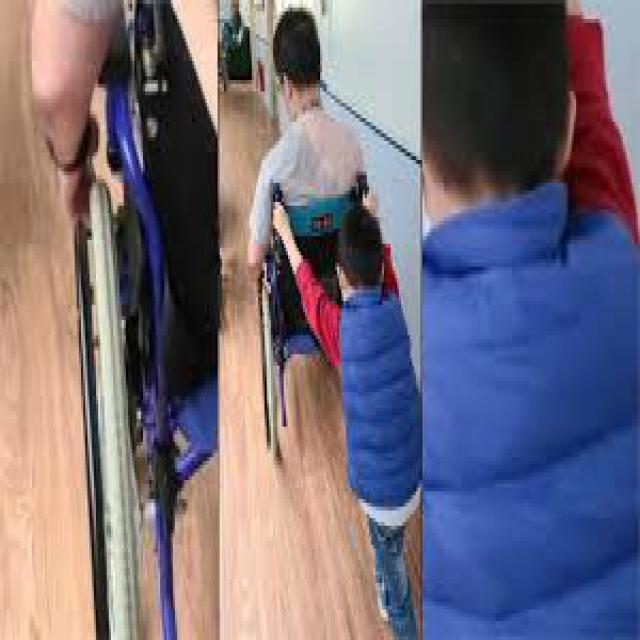wheelchairs: (248, 153, 374, 450)
